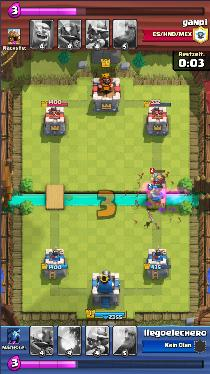ally_knight: (147, 187, 166, 205)
enemy_knight: (151, 173, 167, 188)
